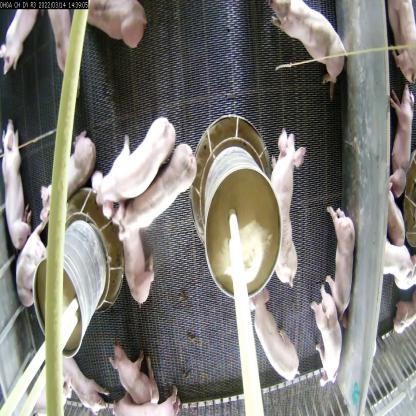Pig: (254, 113, 312, 290), (260, 0, 350, 92), (115, 142, 204, 233), (90, 115, 174, 207), (40, 131, 98, 243), (2, 115, 37, 273), (318, 189, 354, 325), (254, 287, 301, 388), (14, 189, 48, 317), (119, 212, 158, 314), (82, 0, 152, 55), (0, 1, 43, 86), (308, 281, 336, 383), (43, 0, 81, 73), (56, 355, 101, 415), (113, 343, 158, 402), (119, 382, 179, 416)
